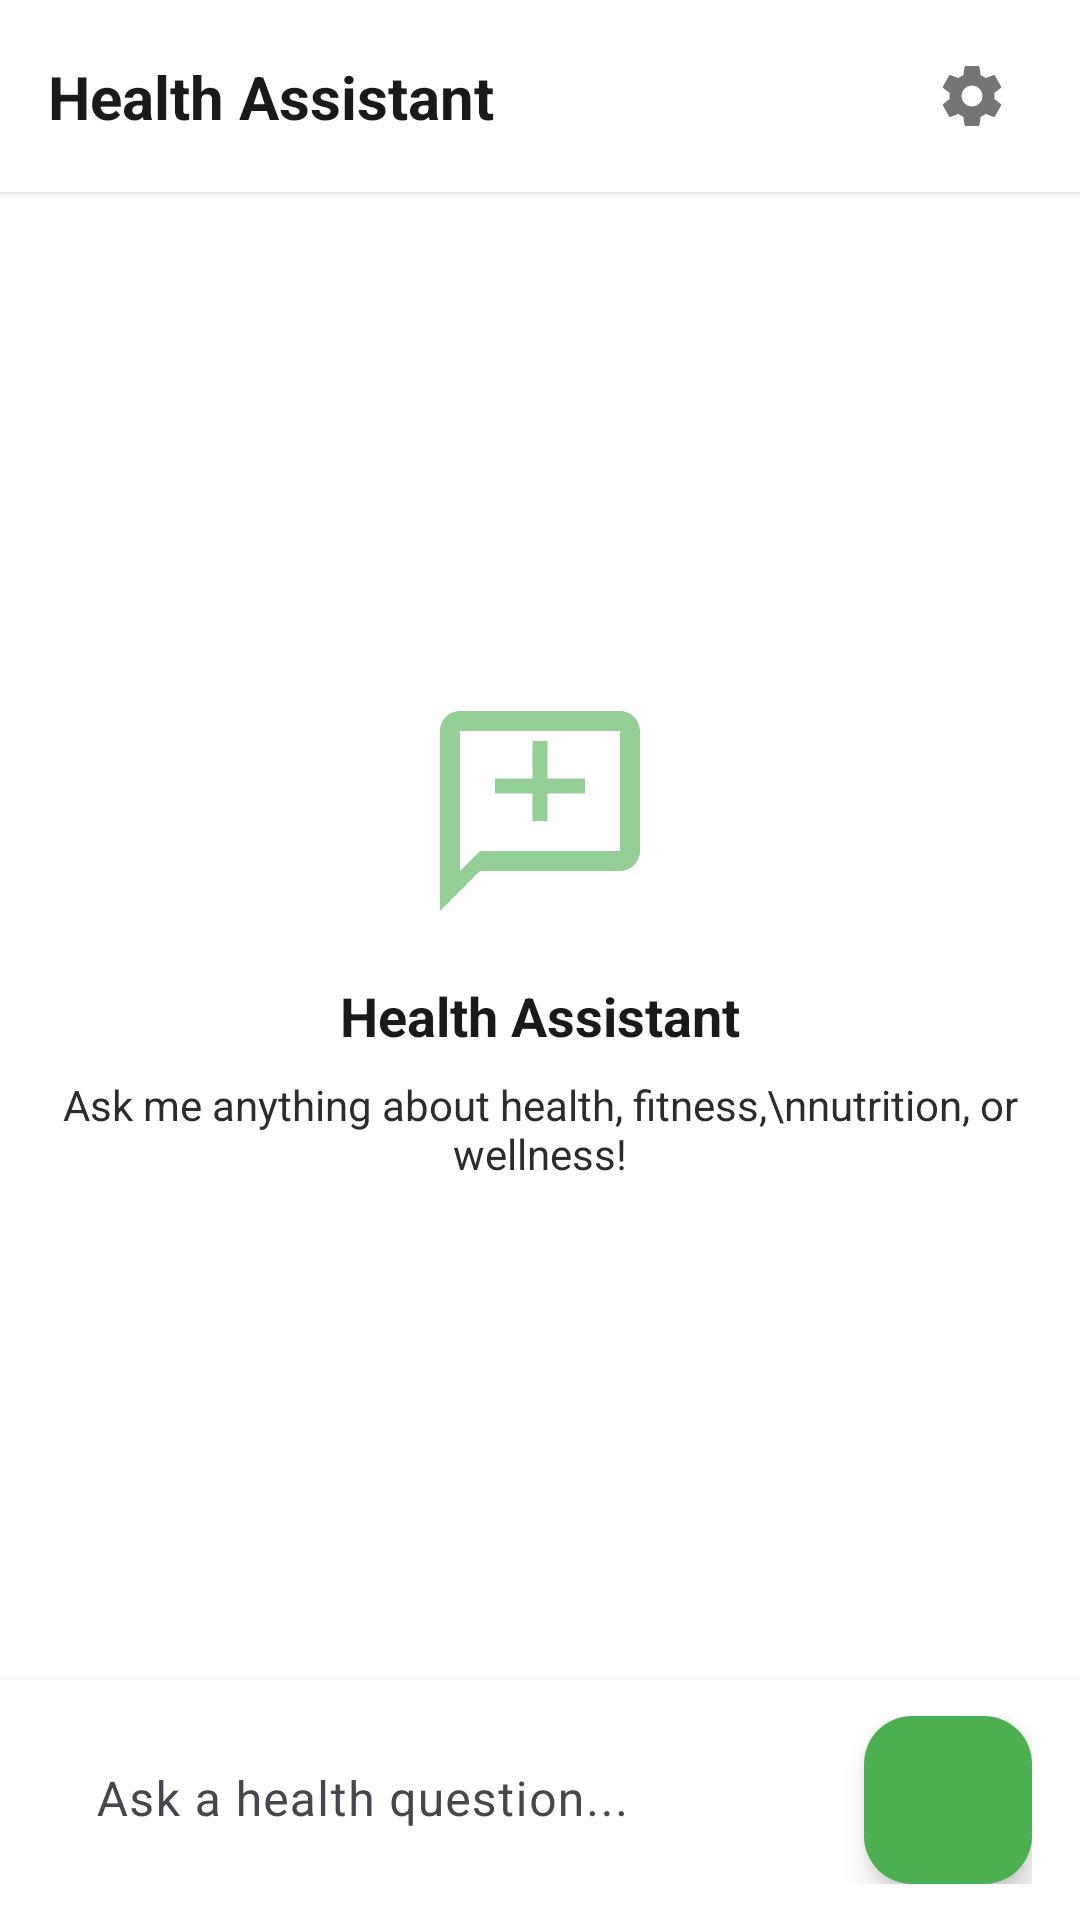

Icons on this 1080*1920 Android screen, each with its box as (x1, y1, x2, y2):
Chat settings: (943, 66, 1001, 126)
